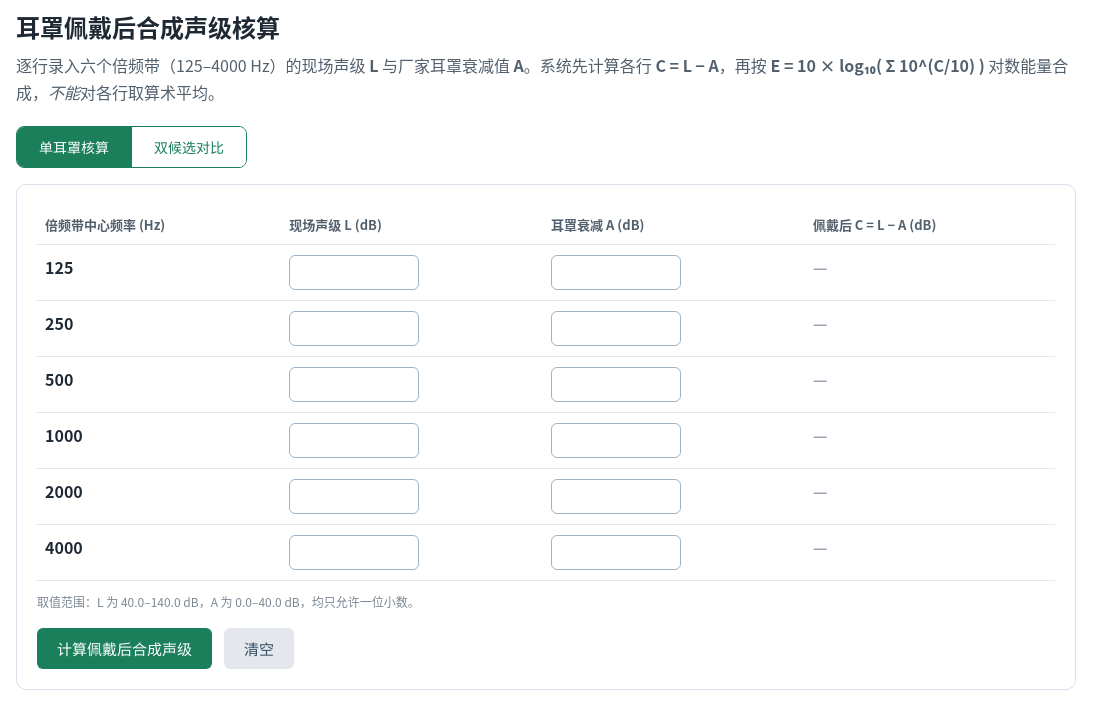
Test: 对比模式页面联调 › 单耳罩核算仍是默认入口，切换后才出现对比表单
Check: the number of number fields named "耳罩衰减 A" is 6, box 551,255 -> 681,290; 551,311 -> 681,346; 551,367 -> 681,402; 551,423 -> 681,458; 551,479 -> 681,514; 551,535 -> 681,570
Click the button with test id "mode-compare" at [188, 147], box 131,127 -> 246,167
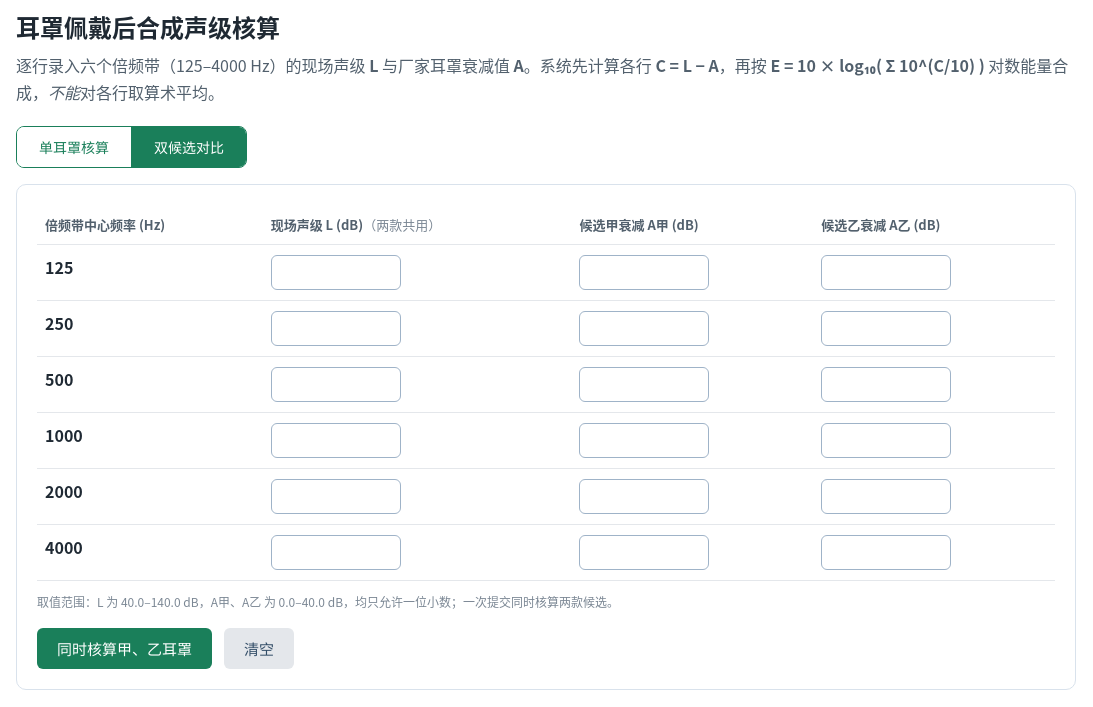
Check: the number of number fields named "现场声级 L" is 6, box 271,255 -> 401,290; 271,311 -> 401,346; 271,367 -> 401,402; 271,423 -> 401,458; 271,479 -> 401,514; 271,535 -> 401,570
Check: the number of number fields named "候选耳罩甲衰减 A" is 6, box 580,255 -> 710,290; 580,311 -> 710,346; 580,367 -> 710,402; 580,423 -> 710,458; 580,479 -> 710,514; 580,535 -> 710,570
Check: the number of number fields named "候选耳罩乙衰减 A" is 6, box 821,255 -> 951,290; 821,311 -> 951,346; 821,367 -> 951,402; 821,423 -> 951,458; 821,479 -> 951,514; 821,535 -> 951,570
